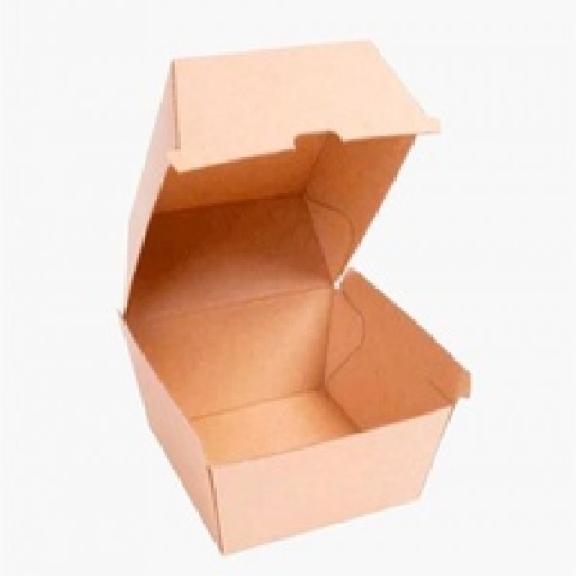Kertas: (121, 42, 470, 552)
